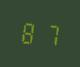eight: (19, 18, 38, 46)
seven: (39, 19, 58, 48)
